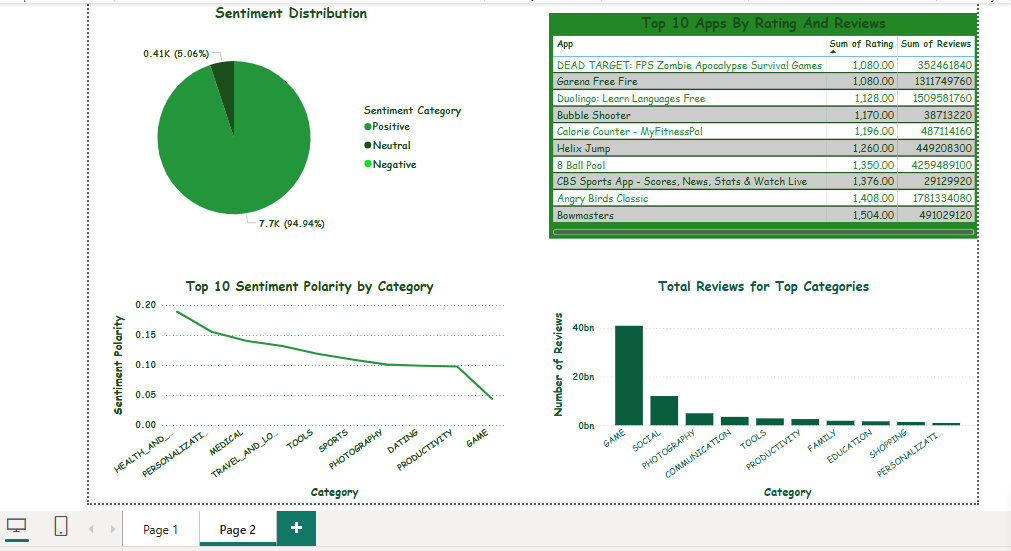

The page's visual inventory and layout, read from the dashboard file:
{"tool":"powerbi","page":{"name":"Page 2","canvas":[1280,720],"ordinal":1},"visuals":[{"type":"pieChart","title":"Sentiment Distribution","fields":{"Category":["merged_data.Sentiment Category"],"Y":["Sum(merged_data.Sentiment_Polarity)"]},"box":[17.3,0,547.2,360],"z":0},{"type":"lineChart","title":"Top 10 Sentiment Polarity by Category","fields":{"Category":["merged_data.Category"],"Y":["Avg(merged_data.Sentiment_Polarity)"]},"box":[28.8,393.1,577.4,326.9],"z":1000},{"type":"tableEx","title":"Top 10 Apps By Rating And Reviews","fields":{"Values":["merged_data.App","Sum(merged_data.Rating)","Sum(merged_data.Reviews)"]},"box":[662.4,14.4,617.8,325.4],"z":2000},{"type":"clusteredColumnChart","title":"Total Reviews for Top Categories","fields":{"Category":["merged_data.Category"],"Y":["Sum(merged_data.Reviews)"]},"box":[662.4,393.1,617.8,326.9],"z":3000}]}

Visuals, with their boxes on the page's 1280x720 design canvas (x1, y1, x2, y2). These are canvas units, not pixel positions in the 1011x551 screenshot, which may show the page scaled, cropped or inside an application window:
"Sentiment Distribution" pieChart: 17/0/564/360
"Top 10 Sentiment Polarity by Category" lineChart: 29/393/606/720
"Top 10 Apps By Rating And Reviews" tableEx: 662/14/1280/340
"Total Reviews for Top Categories" clusteredColumnChart: 662/393/1280/720
